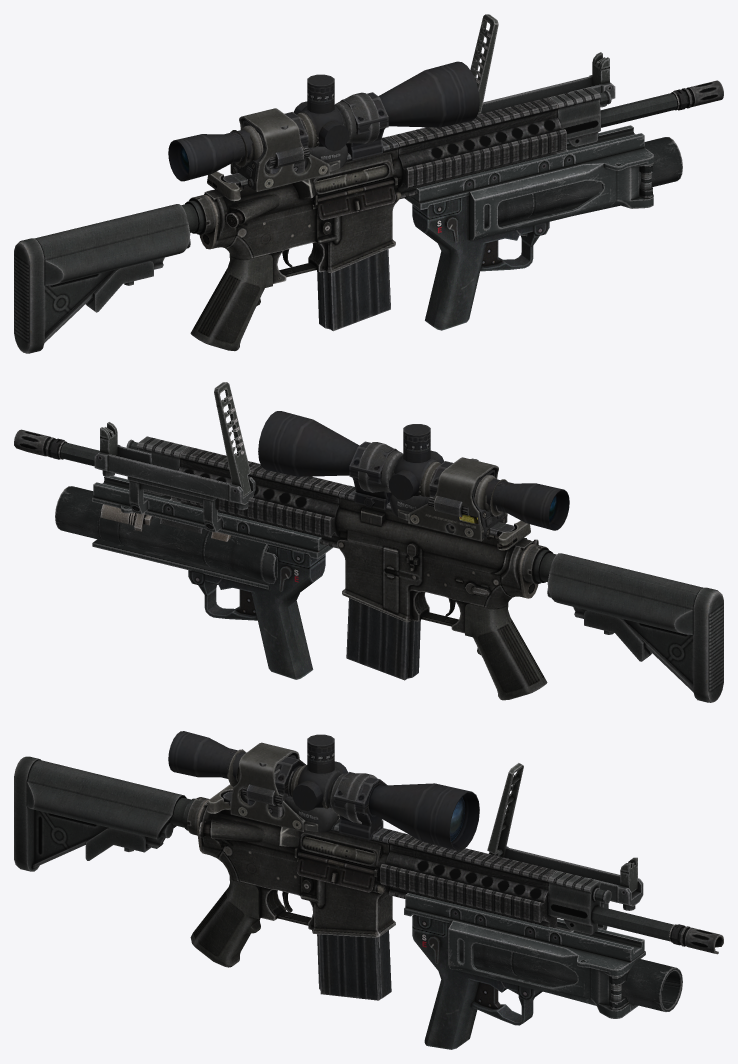
File: AssaultRifle09.FBX
3 renders of one model, top to bottom at view 1: azimuth 30°, elevation 25°; view 2: azimuth 150°, elevation 25°; view 3: azimuth 330°, elevation 25°, orthographic.
Visible parts, largest first — view 1: AssaultRifle09_Body01, AssaultRifle09_Imp02, AssaultRifle09_Imp03, AssaultRifle09_Imp01, AssaultRifle09_Imp04; view 2: AssaultRifle09_Body01, AssaultRifle09_Imp02, AssaultRifle09_Imp03, AssaultRifle09_Imp01, AssaultRifle09_Imp04, AssaultRifle09_Imp05; view 3: AssaultRifle09_Body01, AssaultRifle09_Imp02, AssaultRifle09_Imp03, AssaultRifle09_Imp01, AssaultRifle09_Imp04.
Boxes of the visible parts, left/top/right/bottom form: AssaultRifle09_Body01: left=14, top=80, right=723, bottom=353; AssaultRifle09_Imp02: left=404, top=14, right=682, bottom=330; AssaultRifle09_Imp03: left=168, top=61, right=479, bottom=181; AssaultRifle09_Imp01: left=230, top=108, right=347, bottom=191; AssaultRifle09_Imp04: left=230, top=92, right=380, bottom=174; AssaultRifle09_Body01: left=14, top=429, right=723, bottom=702; AssaultRifle09_Imp02: left=55, top=382, right=333, bottom=679; AssaultRifle09_Imp03: left=258, top=411, right=569, bottom=530; AssaultRifle09_Imp01: left=390, top=457, right=507, bottom=541; AssaultRifle09_Imp04: left=358, top=442, right=507, bottom=526; AssaultRifle09_Imp05: left=100, top=498, right=231, bottom=541; AssaultRifle09_Body01: left=14, top=756, right=723, bottom=1000; AssaultRifle09_Imp02: left=404, top=763, right=682, bottom=1049; AssaultRifle09_Imp03: left=168, top=731, right=479, bottom=850; AssaultRifle09_Imp01: left=230, top=742, right=340, bottom=832; AssaultRifle09_Imp04: left=227, top=749, right=377, bottom=823.
Bounding box in the file's own units: 0.776 × 0.2995 × 0.08.
6 materials, 6 textured.
